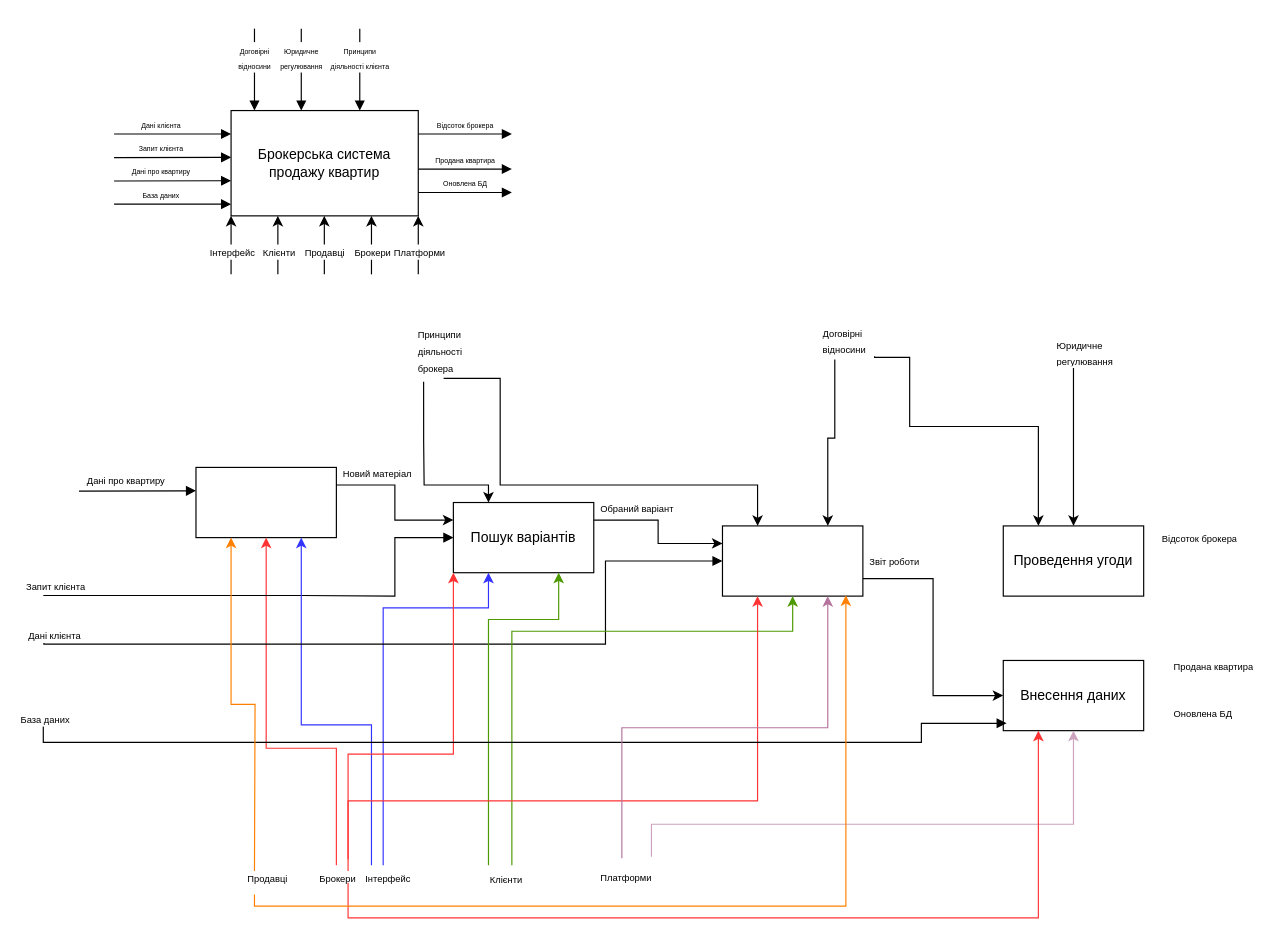
The diagram is 1281 pixels wide and 948 high, and some of its shapes have lost their labels. The box of each missing label's shape, as (x1, y1, x2, y2) in pixels:
Взаємодія учасників сисетми: (721, 525, 863, 596)
Додавання матеріалу (квартири): (195, 466, 336, 538)
